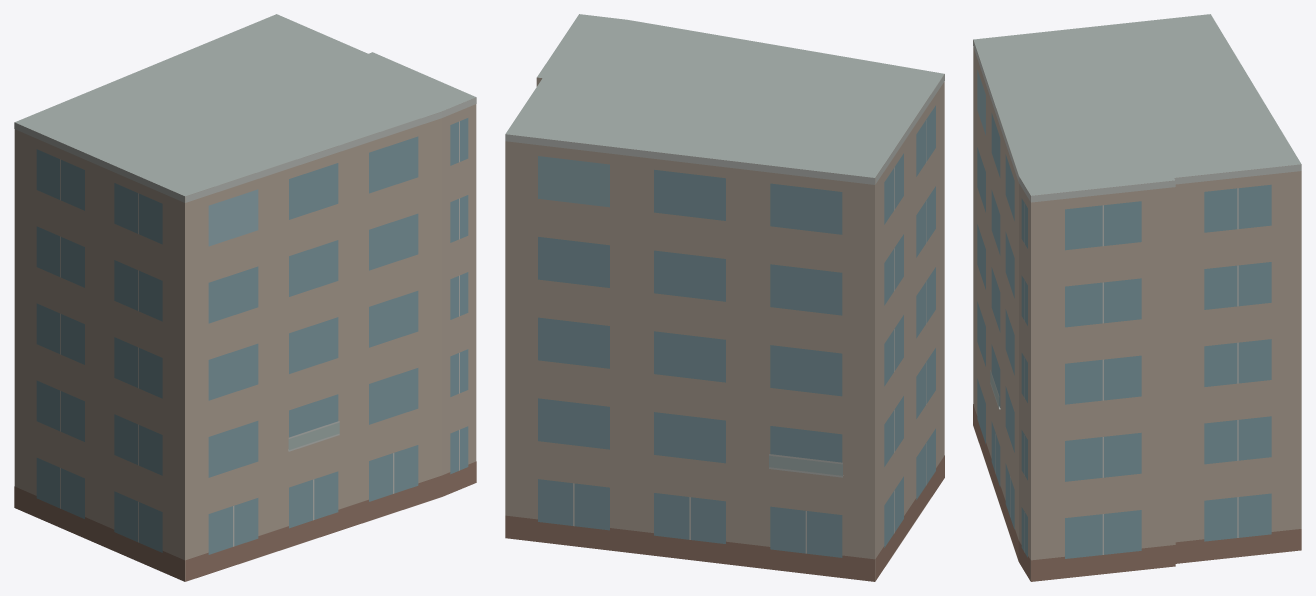
File: survey-upis-32793535.glb
3 renders of one model, left to right at view 1: azimuth 30°, elevation 25°; view 2: azimuth 150°, elevation 25°; view 3: azimuth 270°, elevation 25°, orthographic. The views are drawn at different scales.
Visible parts, largest first — view 1: survey-upis-32793535.tmp; view 2: survey-upis-32793535.tmp; view 3: survey-upis-32793535.tmp.
Part boxes in pixels (<box>): survey-upis-32793535.tmp: <box>14,14,476,581</box>; survey-upis-32793535.tmp: <box>505,14,944,581</box>; survey-upis-32793535.tmp: <box>973,14,1301,581</box>.
Size of the model in its own units: 14.26 by 14.1 by 10.88.
